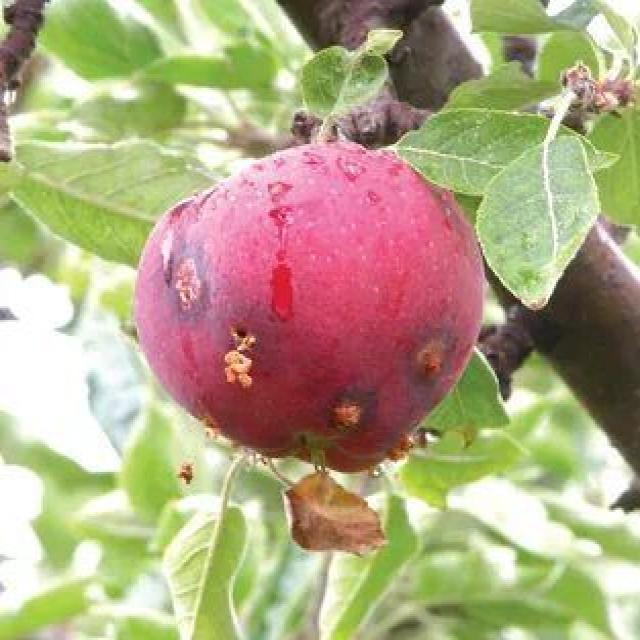Rotten: (153, 165, 462, 480)
